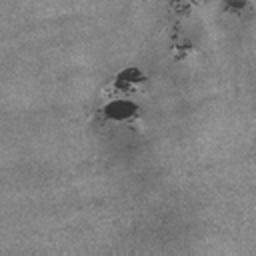Iron sheet ash: (97, 65, 150, 123), (168, 20, 195, 63), (166, 0, 200, 15), (221, 0, 248, 18), (125, 124, 137, 133)
